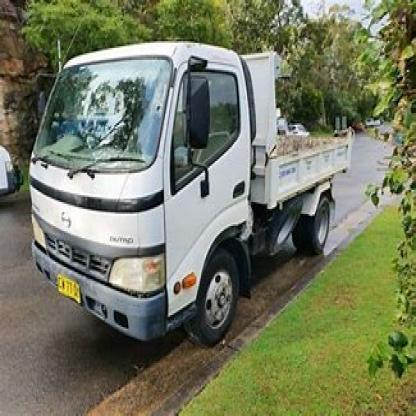dump_truck: (28, 19, 371, 352)
